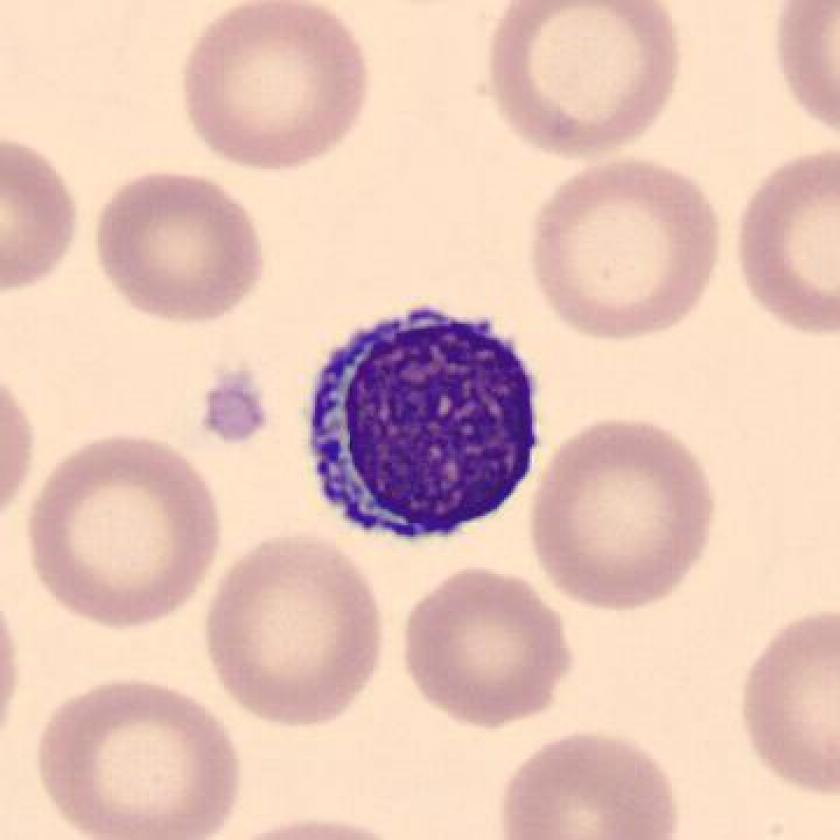lymphocyte: (293, 293, 556, 554)
